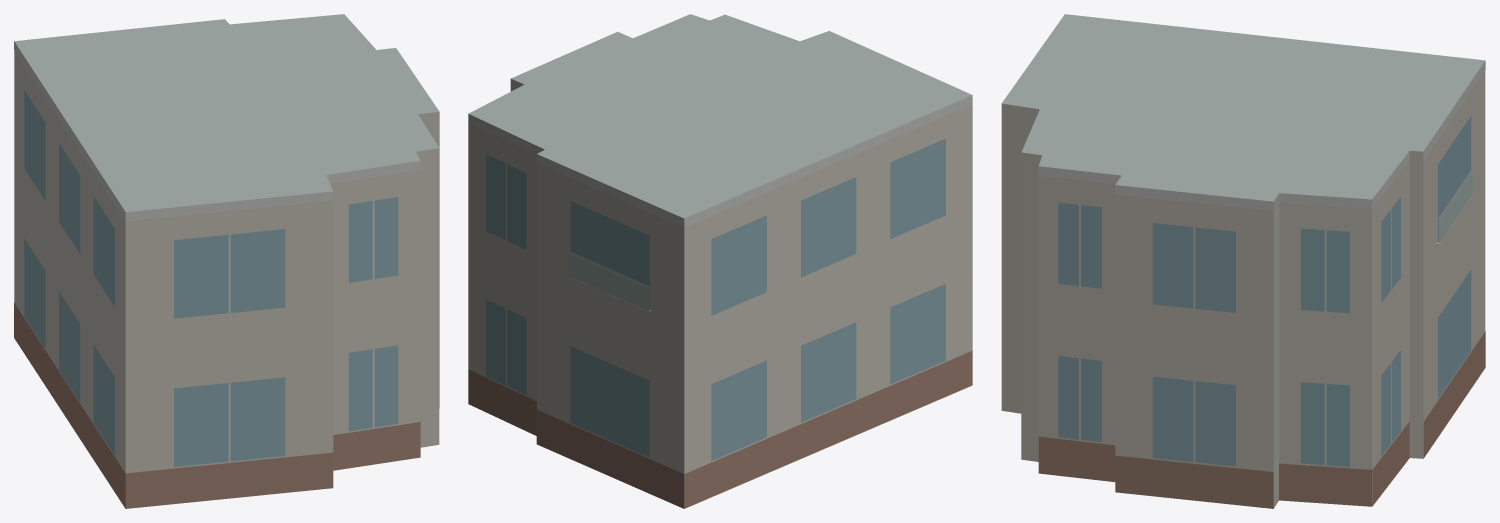
Rendered from survey-upis-32498633.glb.
3 views of the same model, side by side, from view 1: azimuth 30°, elevation 25°; view 2: azimuth 150°, elevation 25°; view 3: azimuth 270°, elevation 25° (orthographic). The views are drawn at different scales.
Visible parts, largest first — view 1: survey-upis-32498633.tmp; view 2: survey-upis-32498633.tmp; view 3: survey-upis-32498633.tmp.
Part boxes in pixels (left/top/right/bottom): survey-upis-32498633.tmp: left=14, top=14, right=439, bottom=508; survey-upis-32498633.tmp: left=468, top=14, right=972, bottom=508; survey-upis-32498633.tmp: left=1001, top=14, right=1485, bottom=508.
Bounding box in the file's own units: 10.36 × 7.9 × 11.29.
